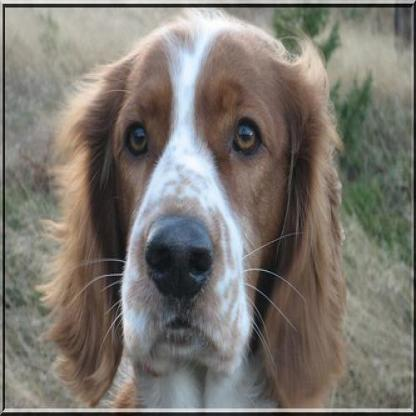Welsh_springer_spaniel: (38, 9, 350, 412)
